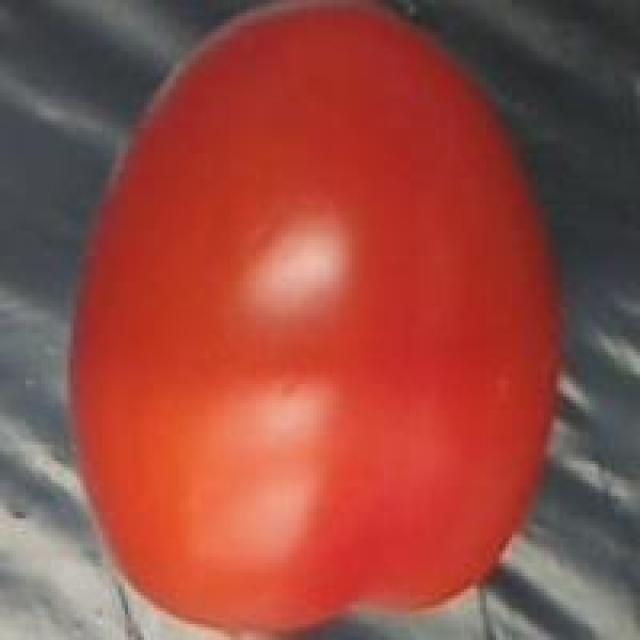ripe tomato: (51, 0, 579, 640)
